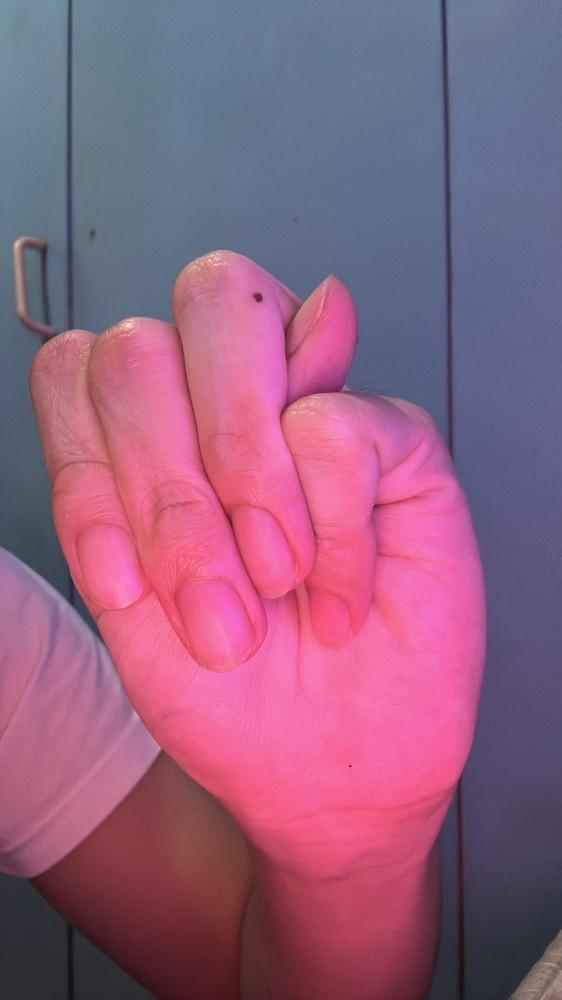m: (27, 243, 491, 873)
